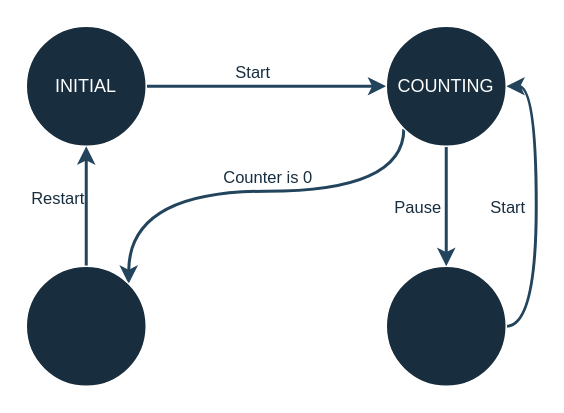
The diagram is 564 pixels wide and 413 high, and some of its shapes have lost their labels. The centre of each missing label's shape, as x and y in pixels:
END: the point at 85,325
PAUSED: the point at 445,325
